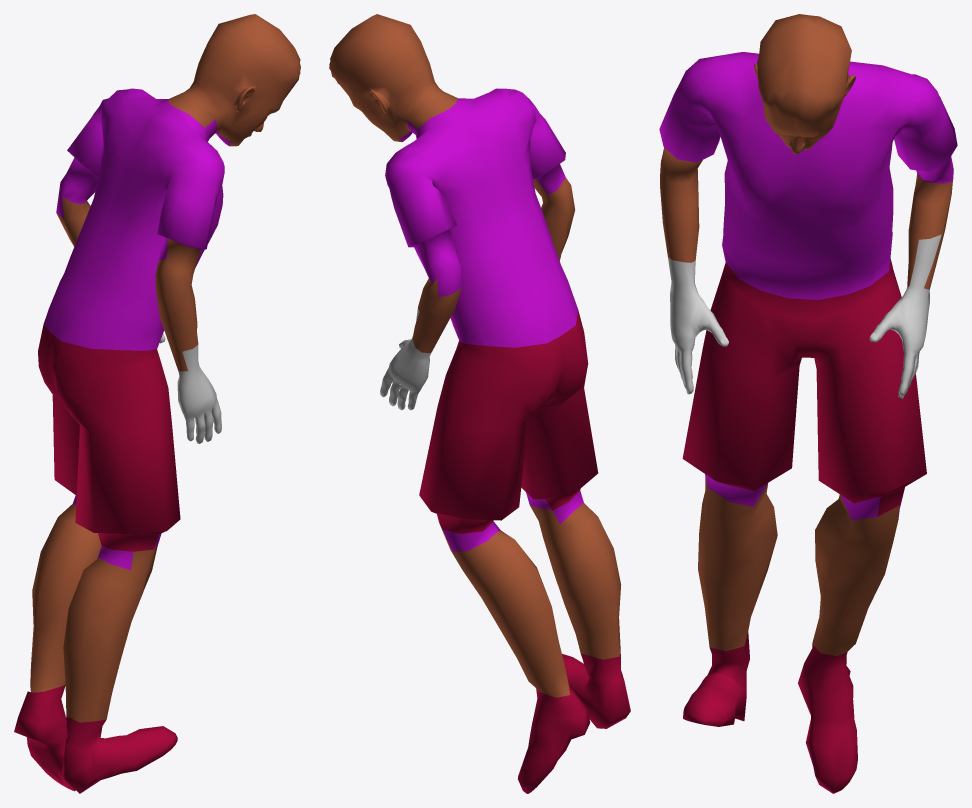
File: goalA_000004.obj
3 renders of one model, left to right at view 1: azimuth 30°, elevation 25°; view 2: azimuth 150°, elevation 25°; view 3: azimuth 270°, elevation 25°, orthographic. The views are drawn at different scales.
Visible parts, largest first — view 1: soccerplayer.018_mesh.018; view 2: soccerplayer.018_mesh.018; view 3: soccerplayer.018_mesh.018.
Part boxes in pixels (bbox=[...]): soccerplayer.018_mesh.018: bbox=[14, 14, 300, 793]; soccerplayer.018_mesh.018: bbox=[329, 14, 630, 793]; soccerplayer.018_mesh.018: bbox=[659, 14, 957, 793].
Bounding box in the file's own units: 1.12 × 2.92 × 0.9092.
